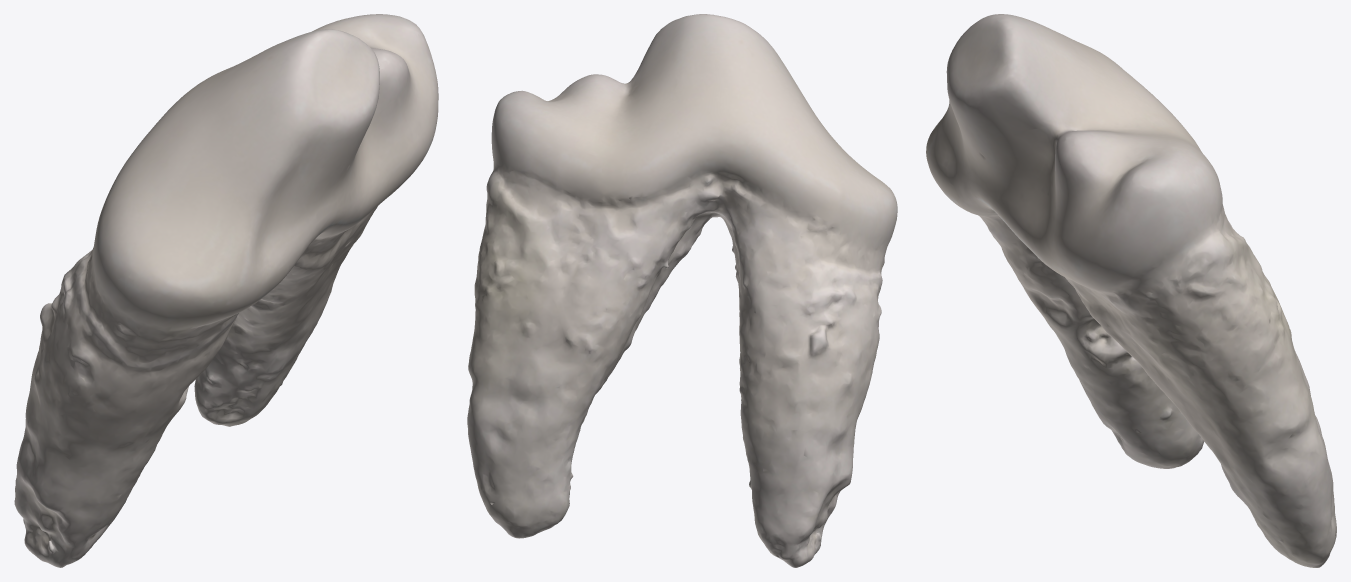
3 views of the same model, side by side, from view 1: azimuth 30°, elevation 25°; view 2: azimuth 150°, elevation 25°; view 3: azimuth 270°, elevation 25° (orthographic). The views are drawn at different scales.
Visible parts, largest first — view 1: P3_li_oben_Hund_2.001; view 2: P3_li_oben_Hund_2.001; view 3: P3_li_oben_Hund_2.001.
Part boxes in pixels (x1,y1,x2,y2): P3_li_oben_Hund_2.001: [14, 14, 438, 567]; P3_li_oben_Hund_2.001: [467, 14, 897, 567]; P3_li_oben_Hund_2.001: [926, 14, 1336, 567].
Bounding box in the file's own units: 1214 × 1554 × 1081.
Materials: 1 (1 with a texture image).
